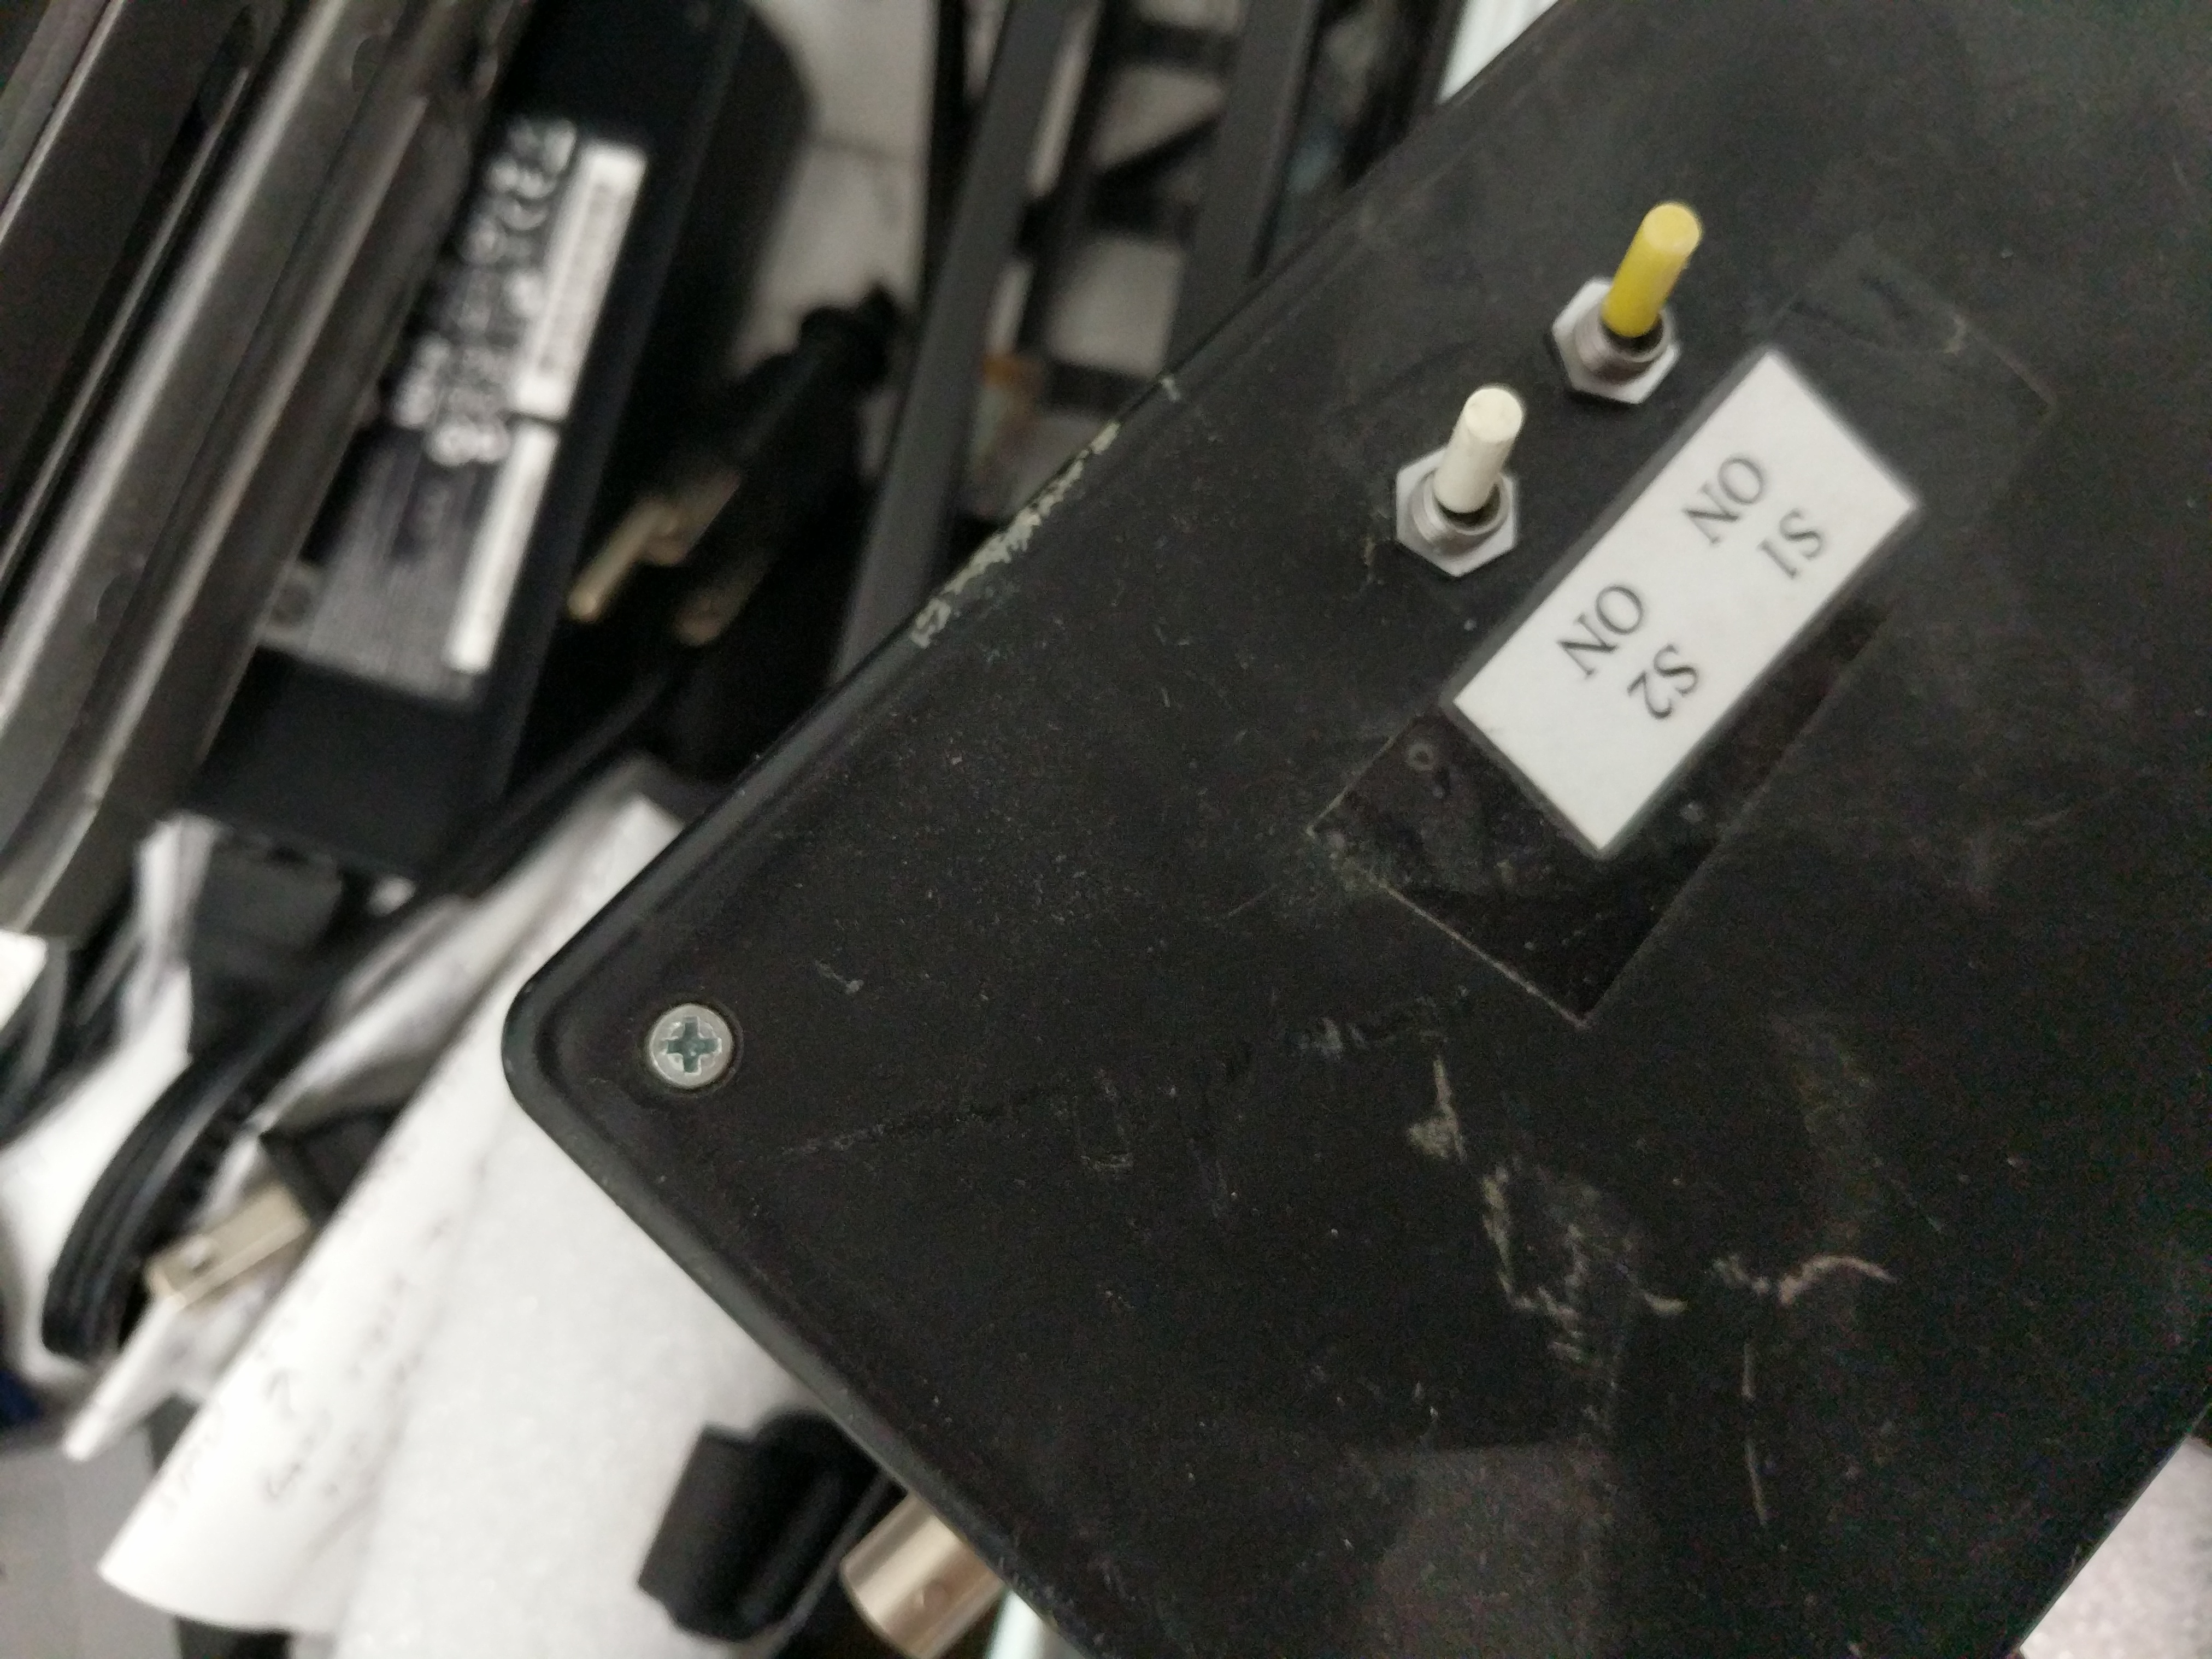cross_recessed_screw: (650, 993, 733, 1096)
